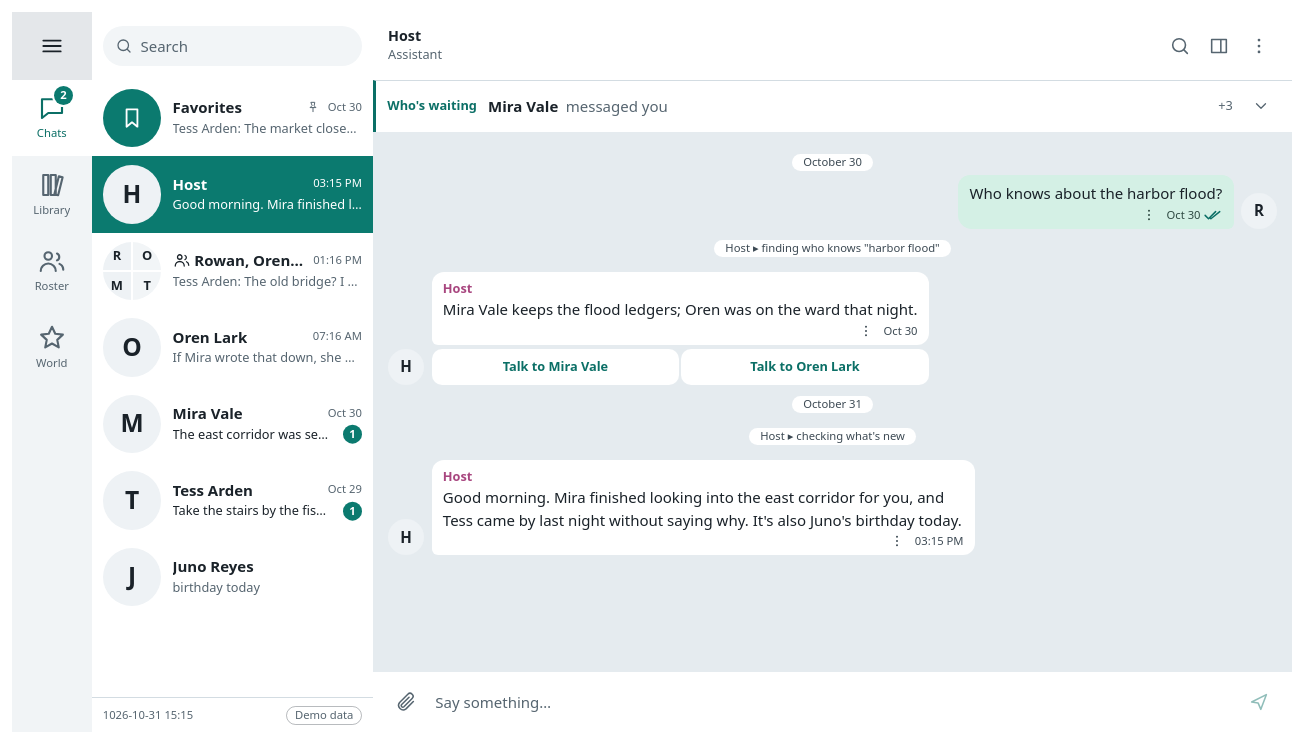
Test: group channel: members in the header, speakers in order, scene lines apart
Check: the heading "Who's waiting" is shown, box [387,98,477,114]
Click the button "Roster" at (52, 271), box [12,232,92,309]
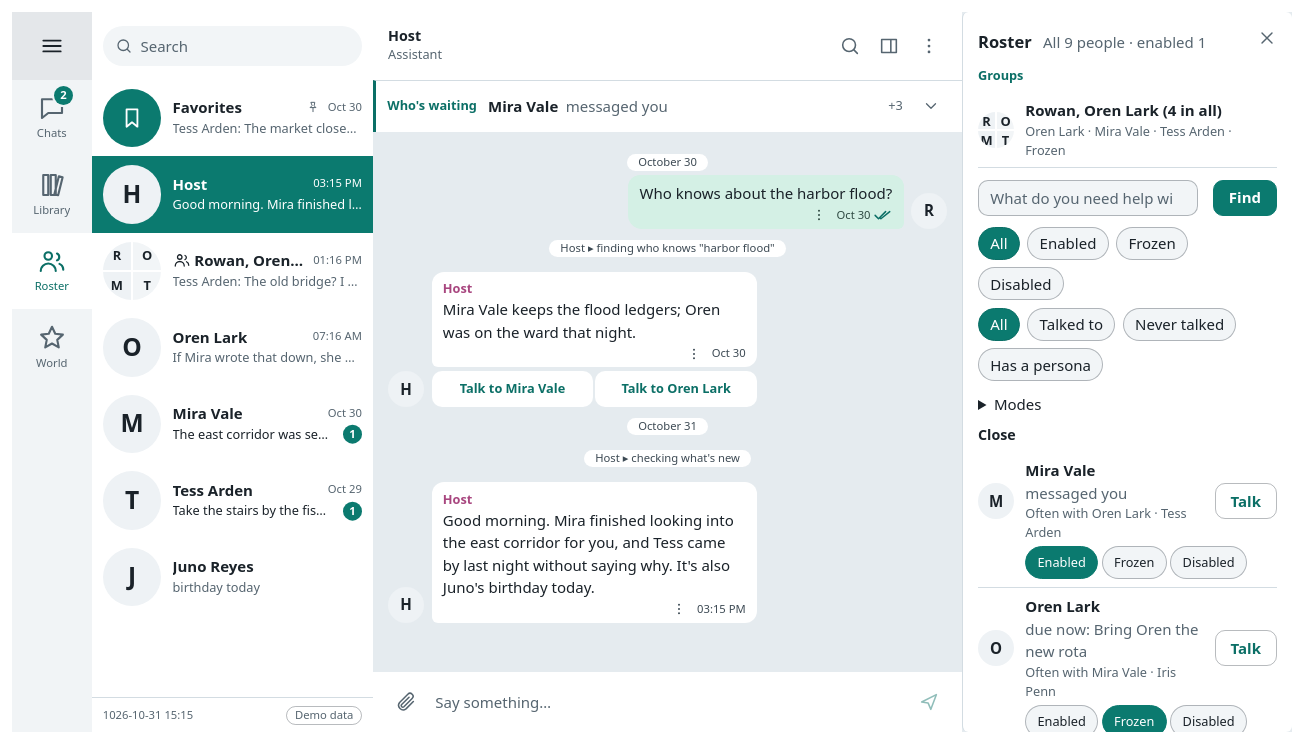
Click the button "Rowan, Oren Lark (4 in all)" at (1124, 110), box [1025,99,1222,122]
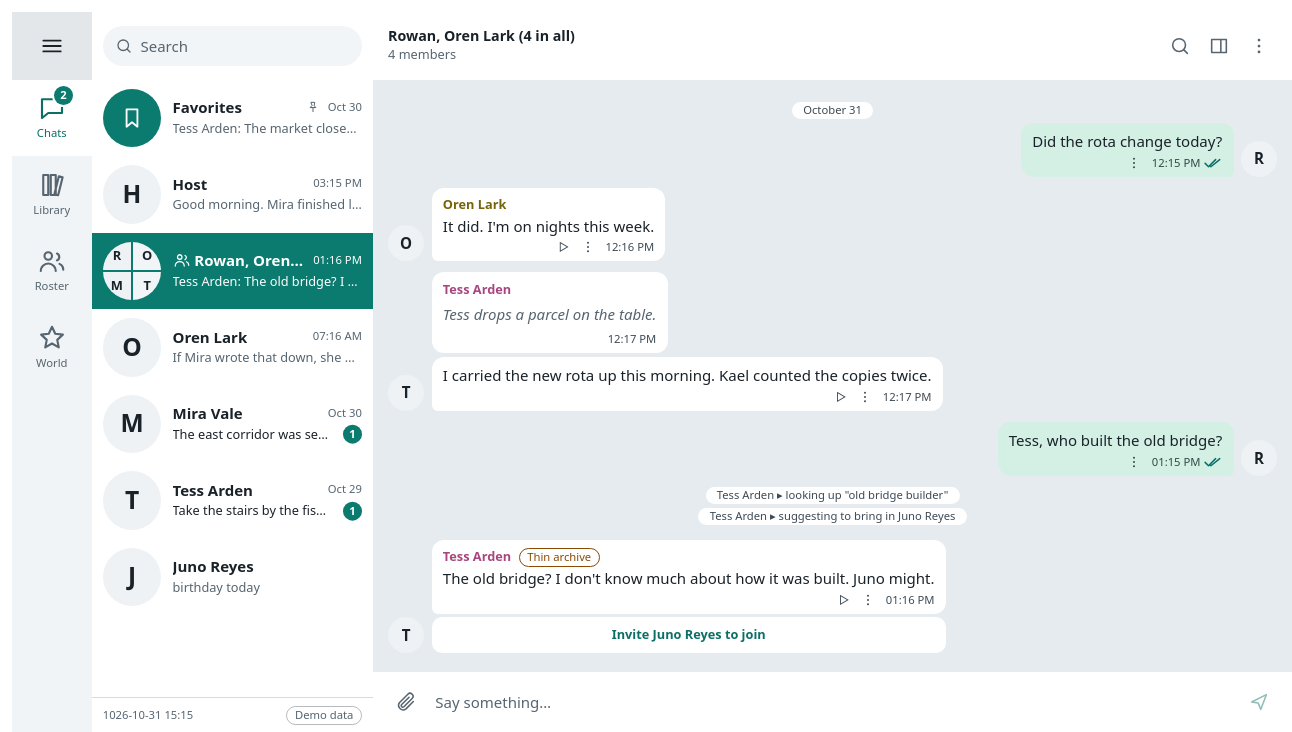
Check: the text "4 members" is shown, box [388,45,456,63]
Check: the text "It did. I'm on nights this week." is shown, box [443,214,654,237]
Check: the element showing "Tess Arden Tess drops a parcel on the table. 12:17 PM" is shown, box [432,272,668,353]
